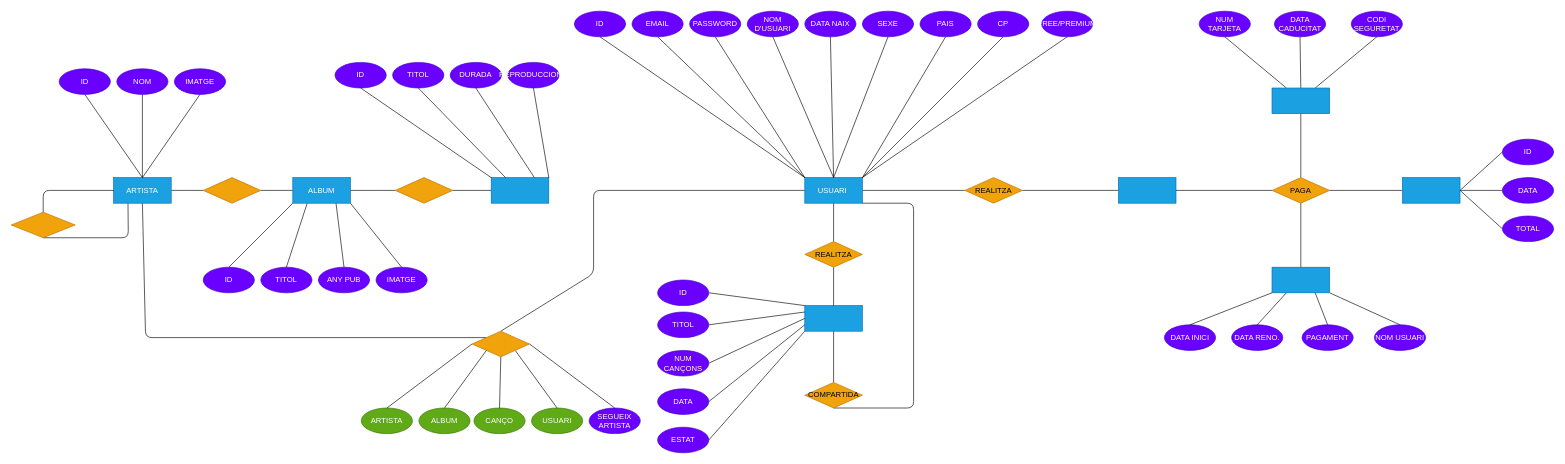
This 1565x464 diagram has some shape labels left out. The centre of each missing label's shape, as x and y in pixels:
"CANÇONS" goes at (520,190).
"ES RELACIONA" goes at (43,225).
"ES SEGUIT" goes at (500,344).
"PAGAMENTS" goes at (1431,190).
"PAYPAL" goes at (1300,280).
"PLAYLIST" goes at (833,318).
"PUBLICA" goes at (232,190).
"SUBSCRIPCIONS" goes at (1147,190).
"TARJETA" goes at (1300,100).
"TE" goes at (424,190).
